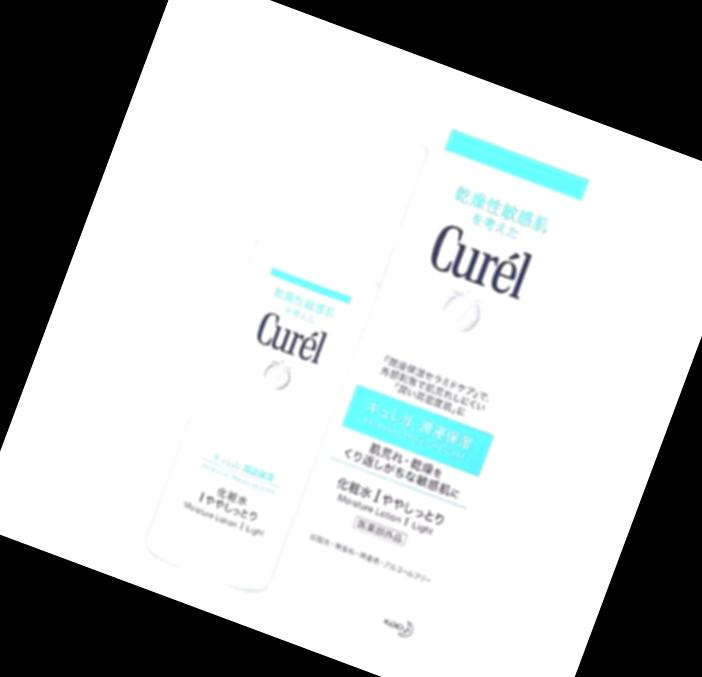cosmetic: (143, 101, 435, 589)
